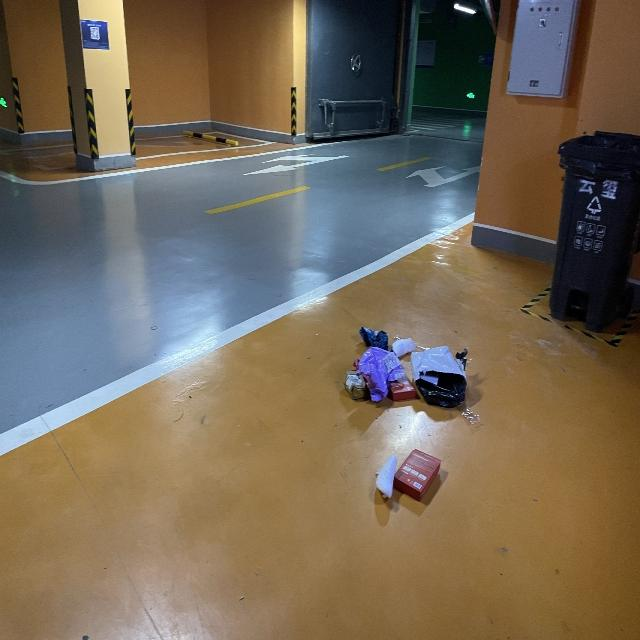garbage: (342, 325, 477, 424), (375, 446, 440, 502)
garbage_bin: (547, 129, 639, 331)
